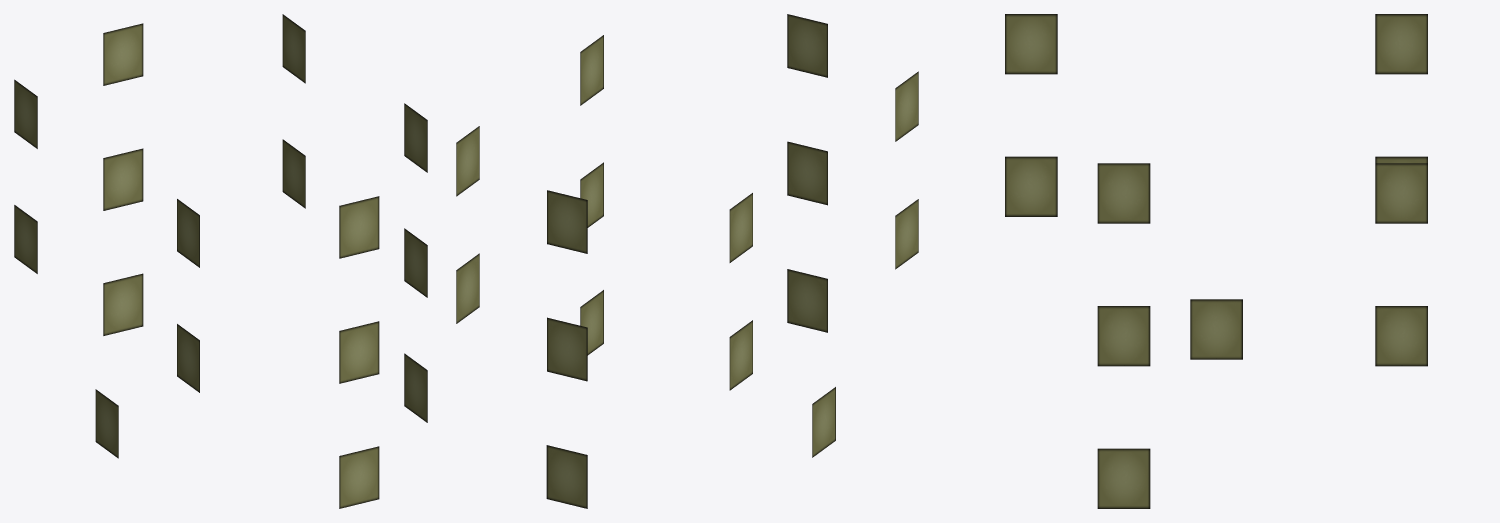
File: house_10.FBX
3 views of the same model, side by side, from view 1: azimuth 30°, elevation 25°; view 2: azimuth 150°, elevation 25°; view 3: azimuth 270°, elevation 25° (orthographic). The views are drawn at different scales.
Parts seen in each view (by area): view 1: house_10_windows; view 2: house_10_windows; view 3: house_10_windows.
Boxes of the visible parts, x1,y1,x2,y2 form: house_10_windows: (14, 14, 427, 508); house_10_windows: (456, 14, 918, 508); house_10_windows: (1005, 14, 1427, 508).
Bounding box in the file's own units: 76.3 × 82.4 × 116.
